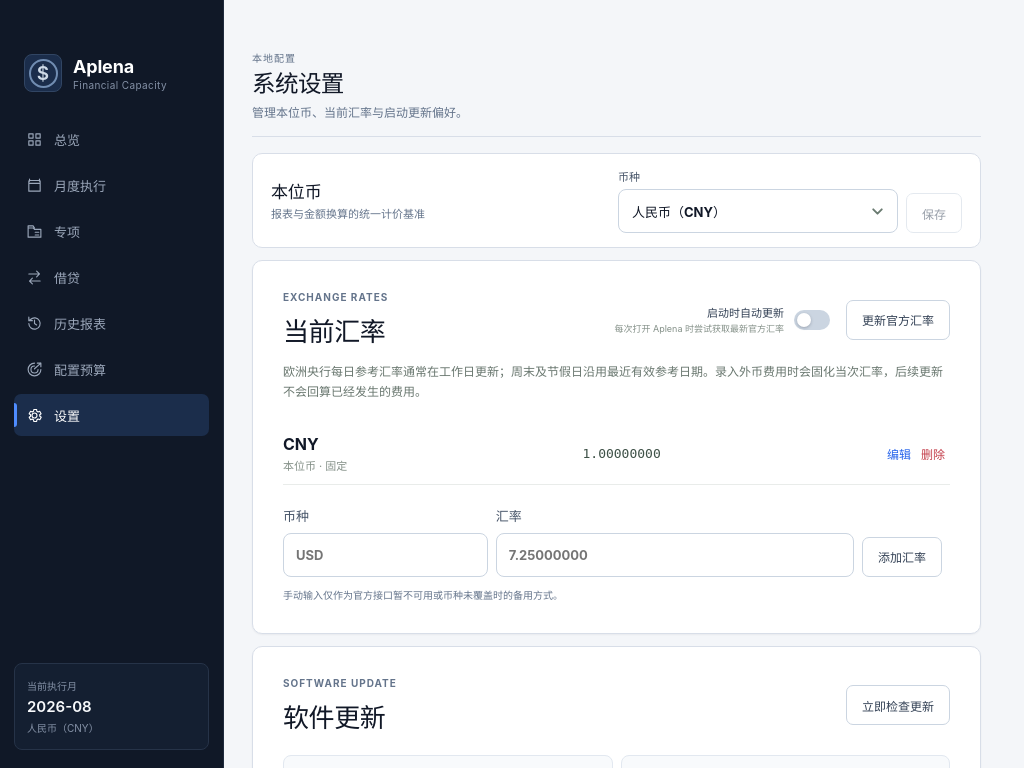
planning workflows › reports an up-to-date result only for a manual software update check
Click the button "立即检查更新": (898, 705) left=846, top=685, right=950, bottom=725
(page scrolled)
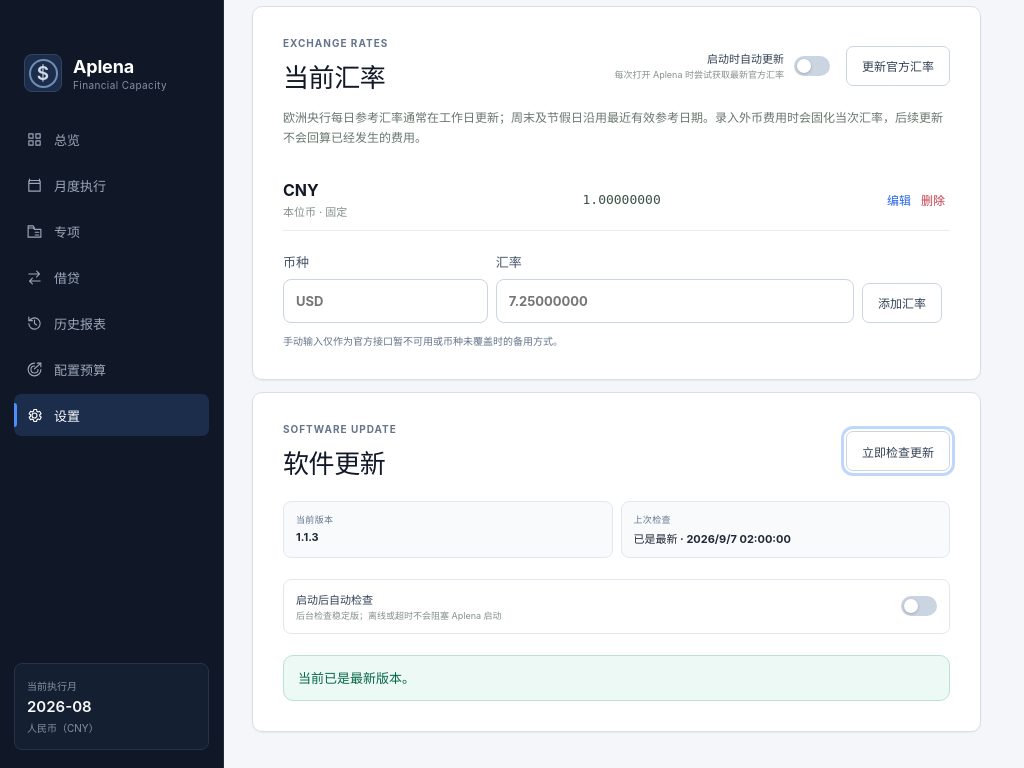
Result: the text "当前已是最新版本。" is shown at left=283, top=655, right=950, bottom=701
